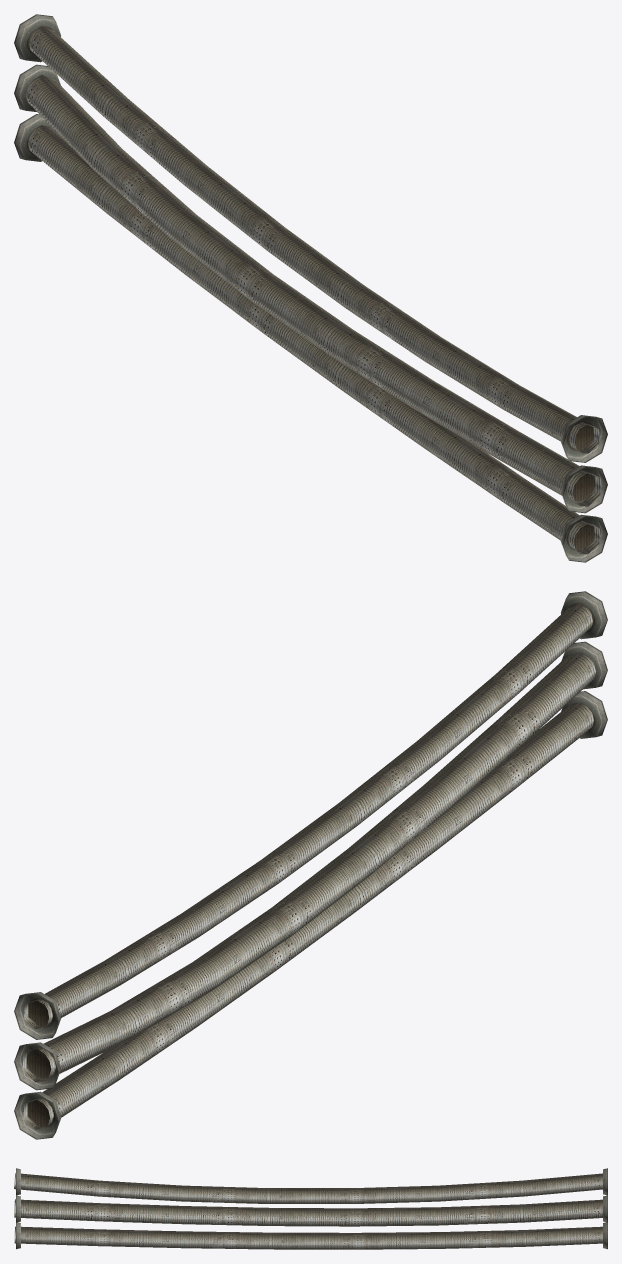
The model's file is EQP_PIPES010.FBX.
3 views of the same model, one above another, from view 1: azimuth 30°, elevation 25°; view 2: azimuth 150°, elevation 25°; view 3: azimuth 270°, elevation 25° (orthographic). The views are drawn at different scales.
Visible parts, largest first — view 1: EQP_PIPES010; view 2: EQP_PIPES010; view 3: EQP_PIPES010.
Boxes of the visible parts, x1,y1,x2,y2 form: EQP_PIPES010: (14,14,607,562); EQP_PIPES010: (14,591,607,1139); EQP_PIPES010: (14,1168,607,1249).
Size of the model in its own units: 26.47 by 74.7 by 502.
